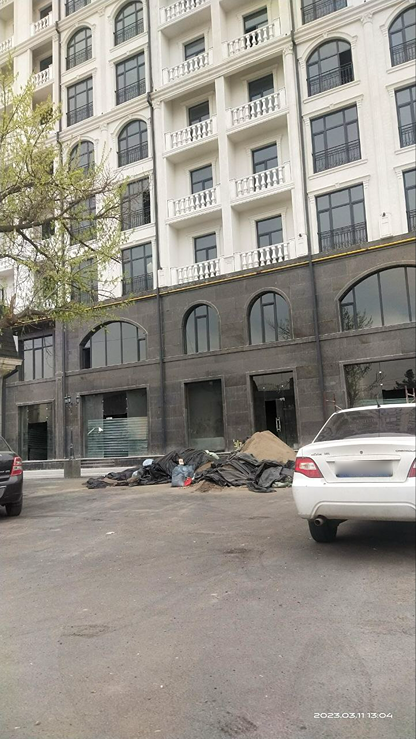car: (281, 385, 416, 550), (0, 423, 35, 521)
